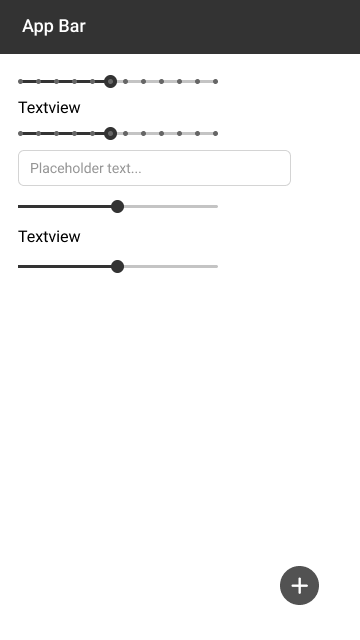editText: (12, 148, 295, 189)
floatingButton: (278, 565, 322, 606)
slider: (15, 72, 224, 88), (15, 125, 224, 140)
slider1: (16, 195, 222, 217), (15, 256, 220, 277)
textView: (18, 223, 82, 246), (16, 98, 81, 119)
toolbar: (1, 1, 360, 57)
